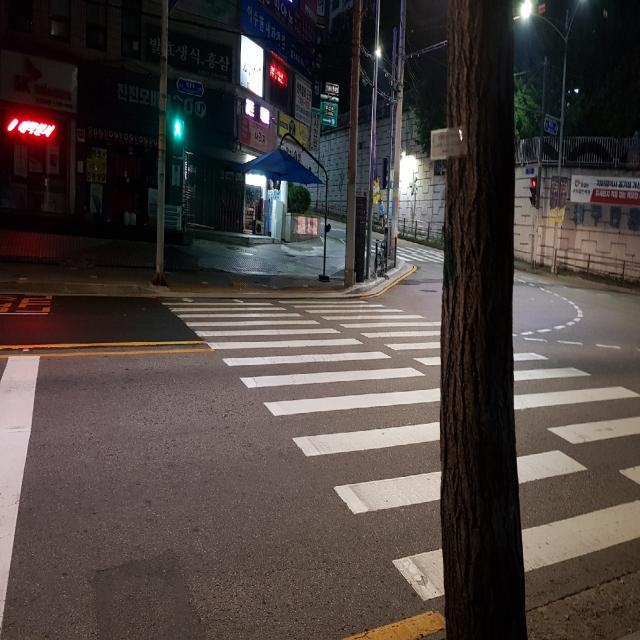초록불: (173, 114, 189, 156)
횡단보도: (162, 298, 640, 601)
